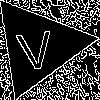V: (13, 21, 56, 71)
